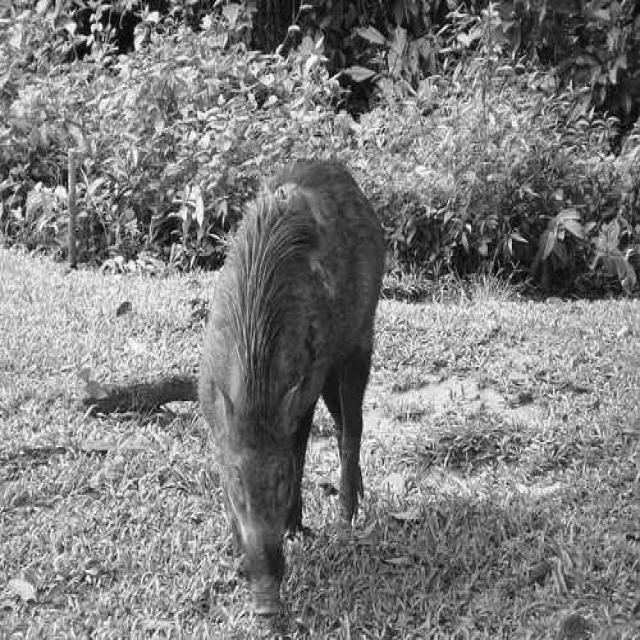boar: (197, 160, 383, 611)
